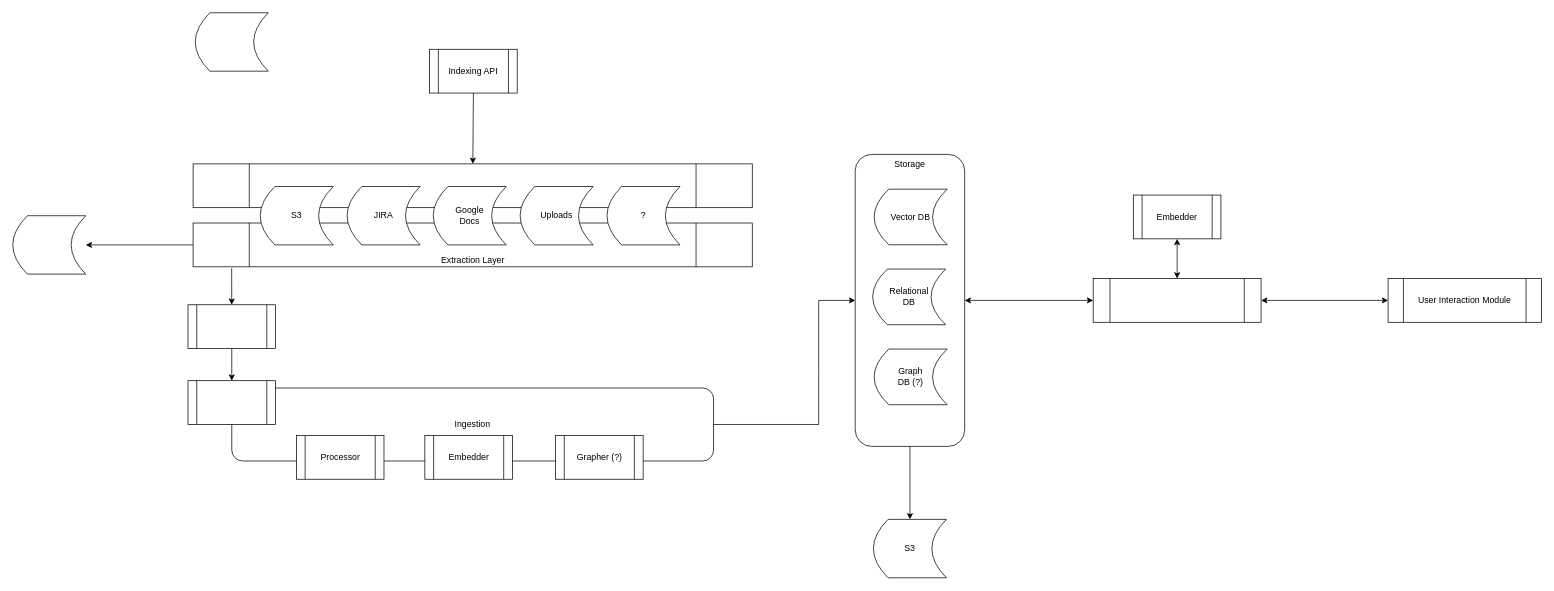
This 1554x591 diagram has some shape labels left out. The centre of each missing label's shape, as x and y in pixels:
"Discovery Layer" belongs at (x=472, y=185).
"Metadata Preprocessor" belongs at (x=231, y=326).
"Preprocessor" belongs at (x=231, y=402).
"S3 / Local Storage" belongs at (x=49, y=244).
"Search Endpoint" belongs at (x=1176, y=300).
